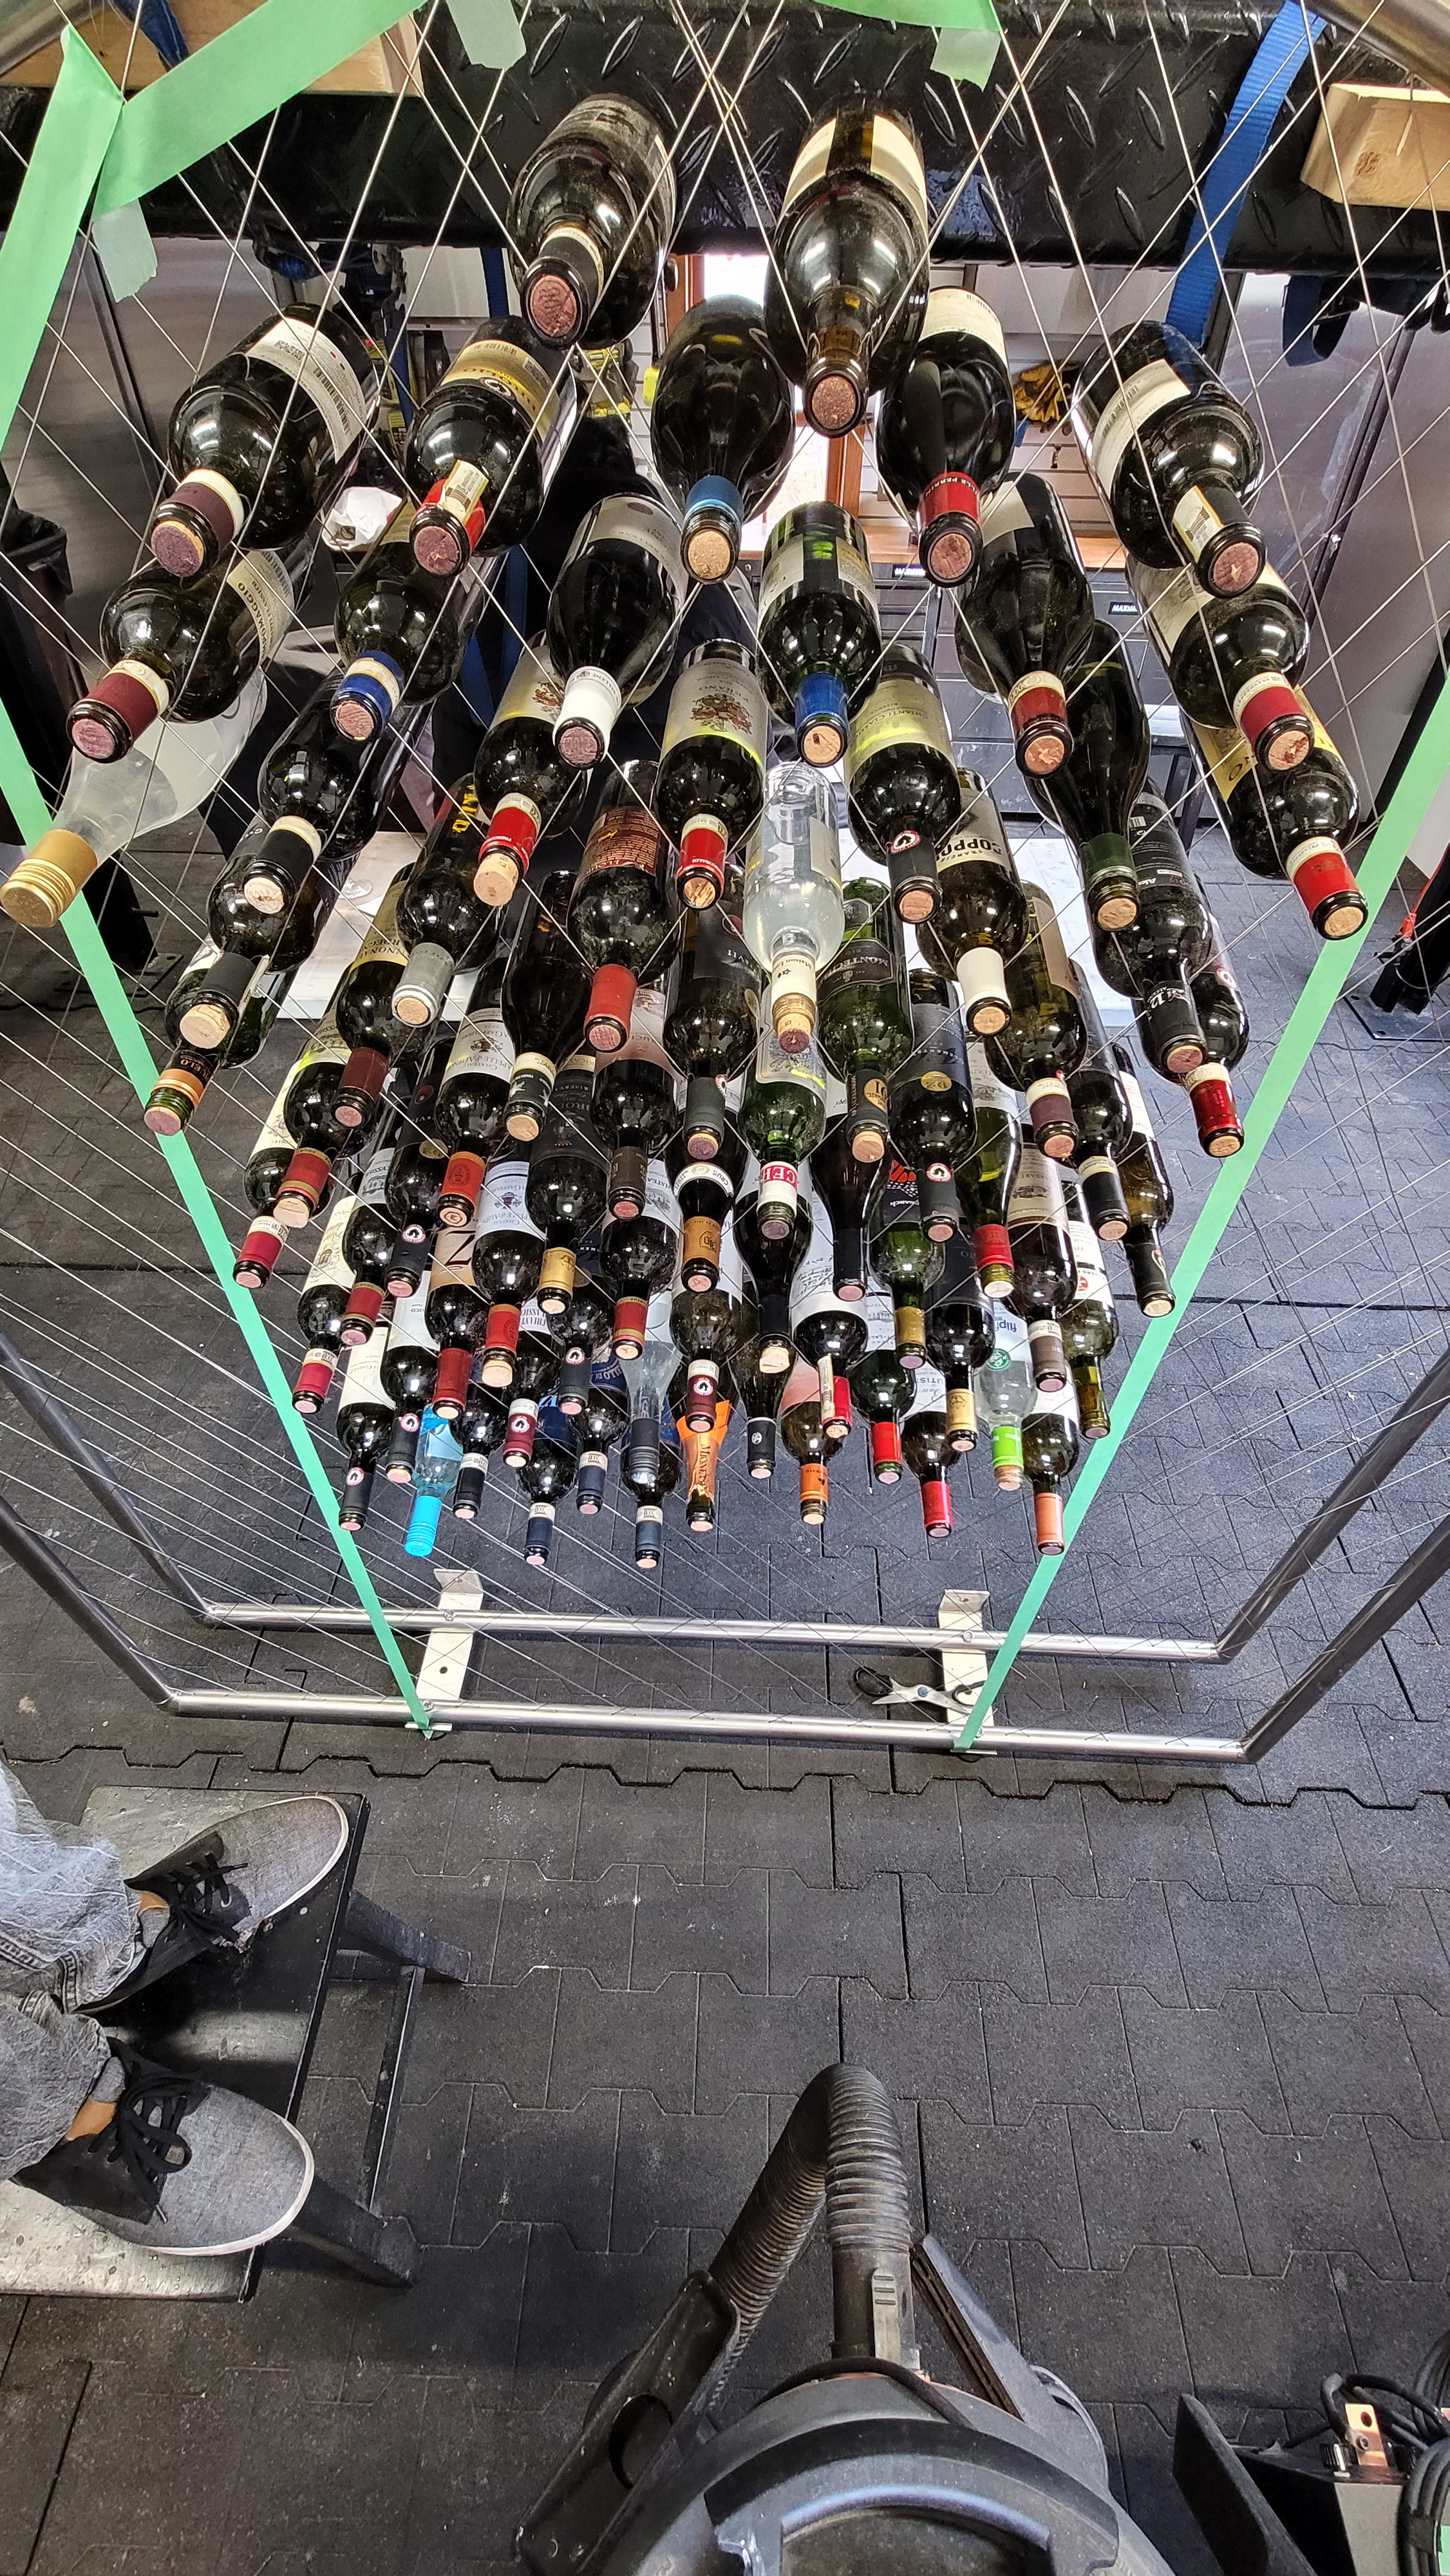bottle: (219, 826, 354, 964), (0, 819, 118, 957), (1278, 858, 1408, 975), (1220, 672, 1342, 794), (447, 814, 566, 939), (983, 678, 1100, 805), (495, 230, 607, 361), (787, 327, 895, 453), (120, 488, 237, 594), (1188, 495, 1287, 614), (1059, 849, 1165, 959), (930, 959, 1043, 1062), (370, 961, 483, 1063), (46, 676, 152, 782), (769, 686, 875, 793), (863, 840, 969, 947), (642, 842, 760, 936), (1126, 993, 1229, 1099), (530, 686, 631, 793), (658, 495, 757, 602), (483, 1056, 575, 1169), (900, 506, 1001, 607), (385, 490, 481, 596), (306, 663, 407, 761), (1110, 1242, 1208, 1341), (115, 1067, 212, 1164), (161, 973, 258, 1069), (748, 973, 843, 1069), (893, 1168, 983, 1265), (1001, 1318, 1098, 1408), (407, 1164, 506, 1253), (1174, 1092, 1270, 1182), (824, 1093, 920, 1184), (1006, 1097, 1107, 1180), (564, 984, 658, 1072), (953, 1230, 1036, 1322), (1072, 1171, 1162, 1254), (739, 1168, 820, 1260), (308, 1070, 401, 1148), (207, 1230, 294, 1309), (361, 1240, 444, 1320), (515, 1251, 594, 1334), (460, 1332, 543, 1412), (805, 1240, 889, 1318), (591, 1154, 668, 1237), (661, 1100, 744, 1178), (260, 1162, 336, 1246), (667, 1242, 741, 1316), (325, 1297, 391, 1373)
